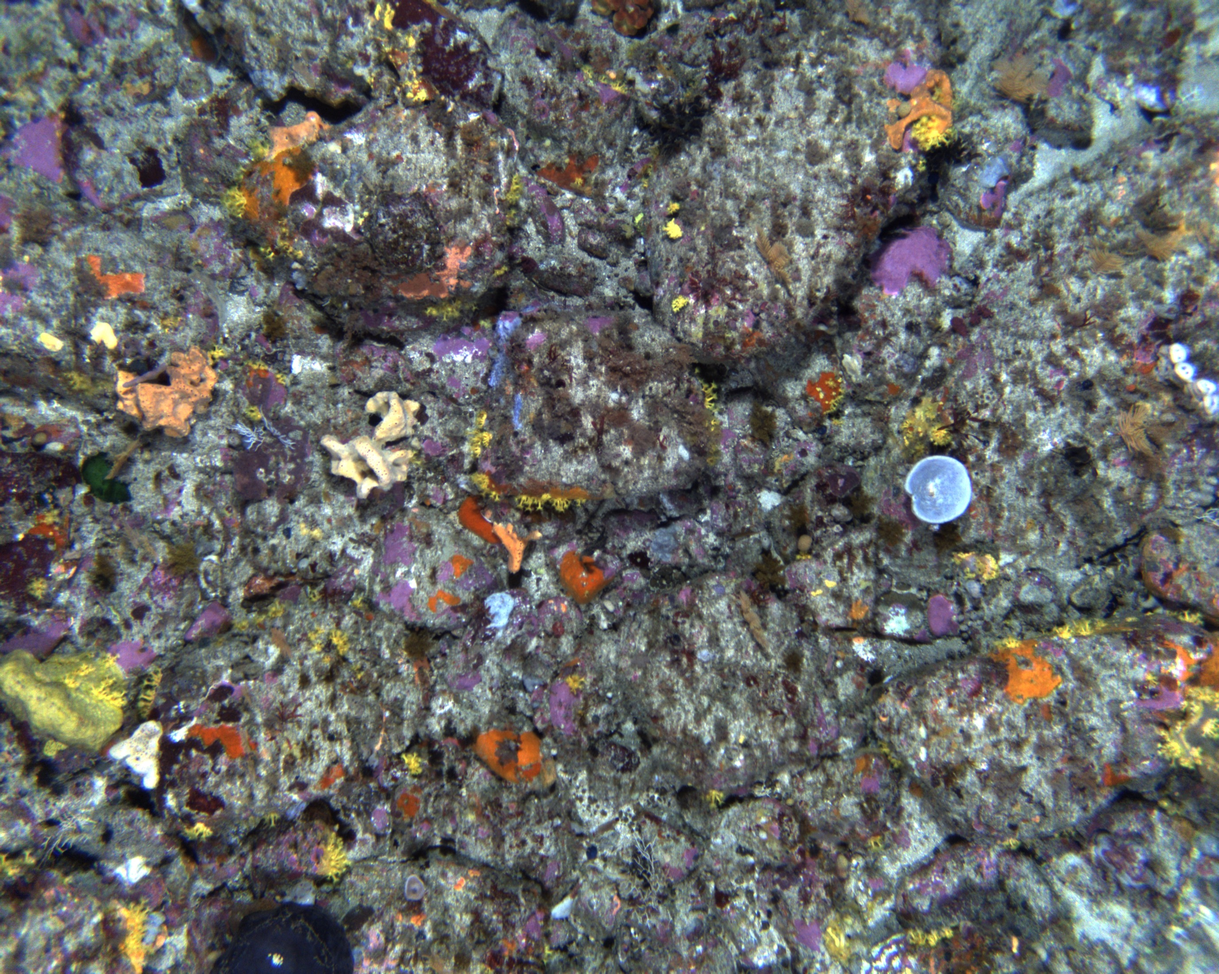Brachionichthyidae: (239, 572, 323, 603)
